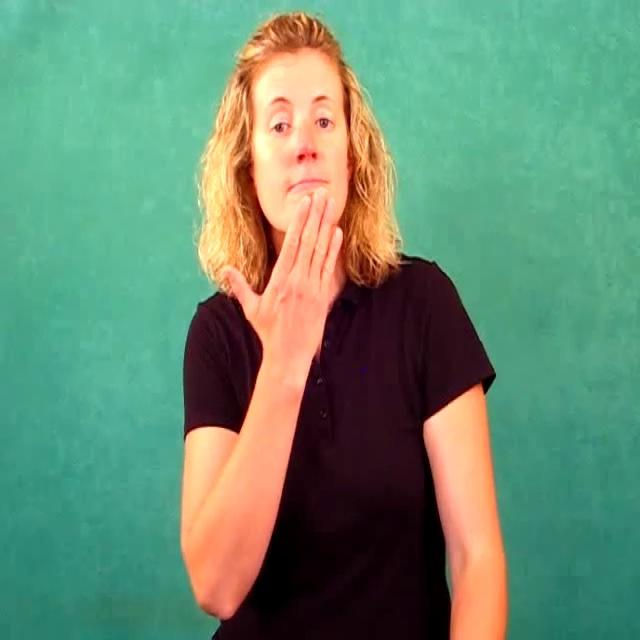thankyou: (225, 94, 351, 394)
